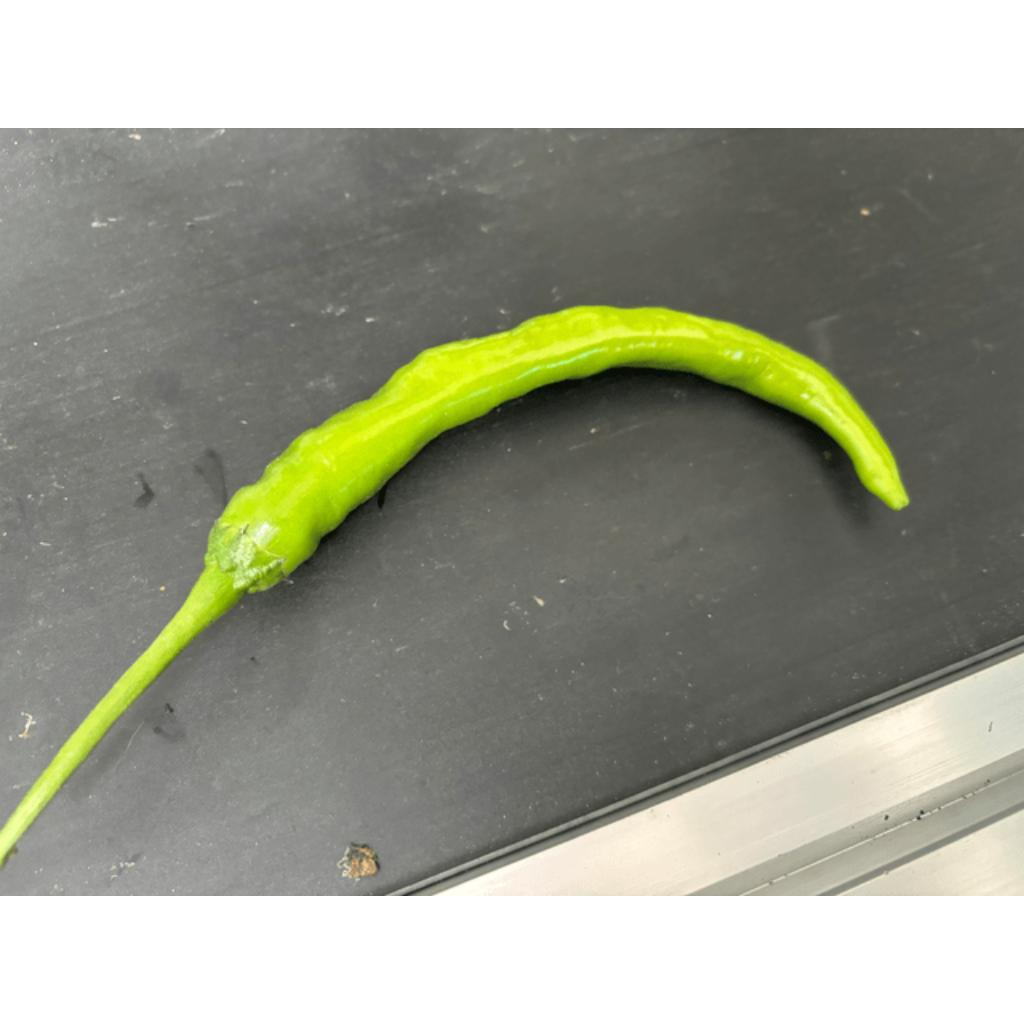chili: (198, 301, 909, 597)
